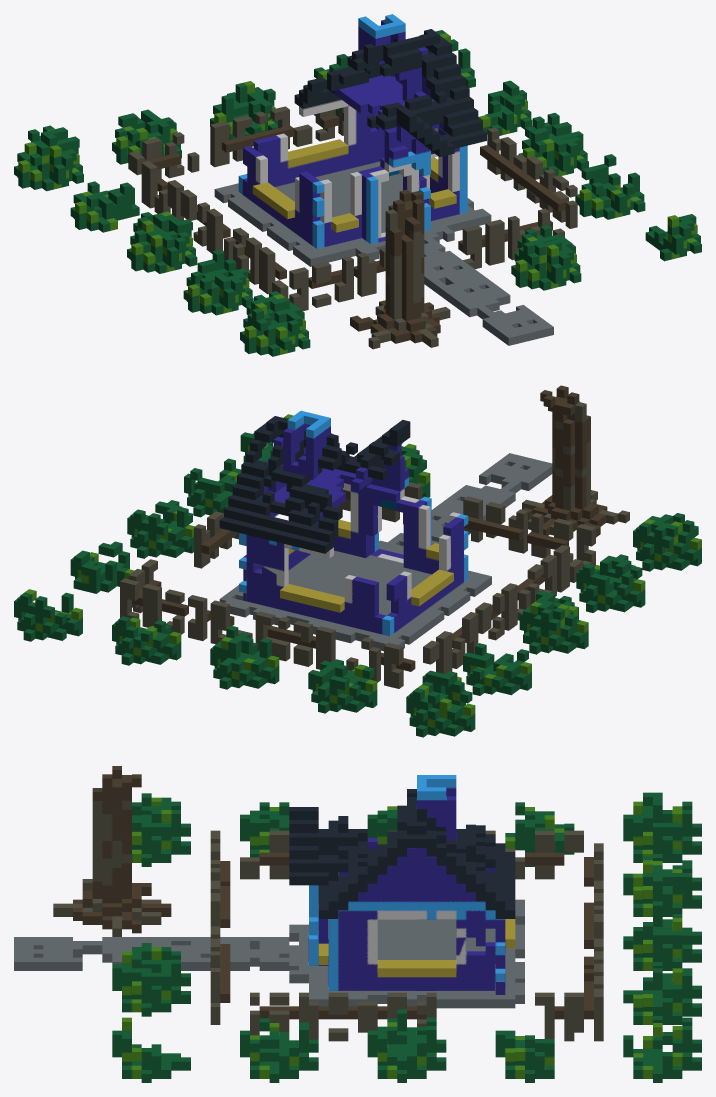
Rendered from building_small_2_destroyed.glb.
3 views of the same model, one above another, from view 1: azimuth 30°, elevation 25°; view 2: azimuth 150°, elevation 25°; view 3: azimuth 270°, elevation 25° (orthographic). The views are drawn at different scales.
Parts seen in each view (by area): view 1: building_small_2_destroyed; view 2: building_small_2_destroyed; view 3: building_small_2_destroyed.
Part boxes in pixels (x1=…): building_small_2_destroyed: x1=14, y1=14, x2=701, y2=356; building_small_2_destroyed: x1=14, y1=385, x2=701, y2=737; building_small_2_destroyed: x1=14, y1=766, x2=701, y2=1082.
Bounding box in the file's own units: 6 × 2.2 × 7.
Materials: 1 (1 with a texture image).
